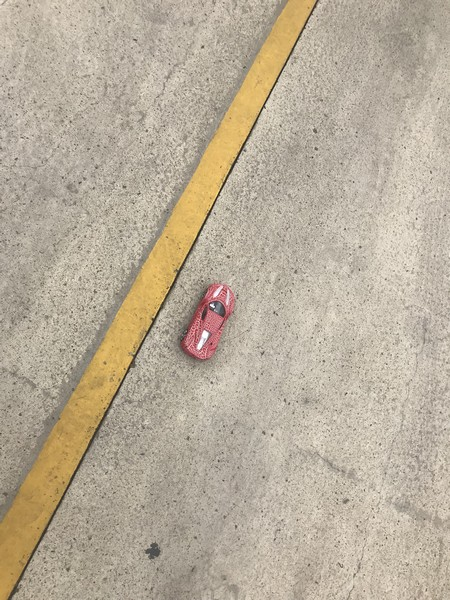RC: (181, 279, 237, 364)
